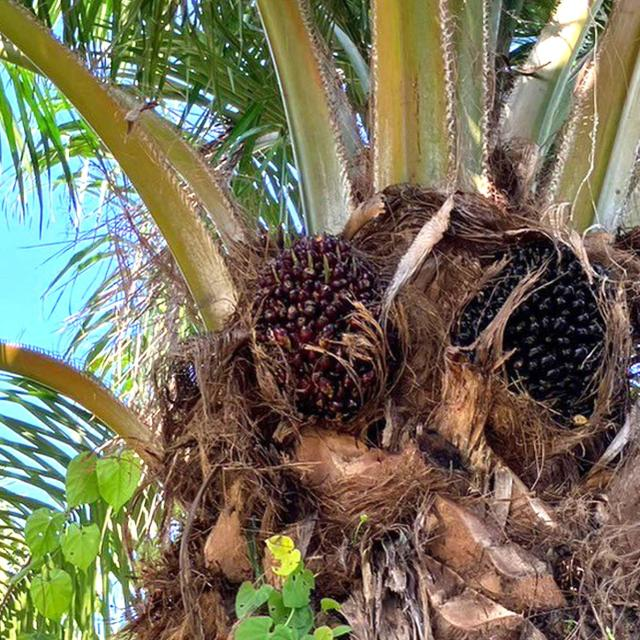ripe: (250, 233, 388, 421)
